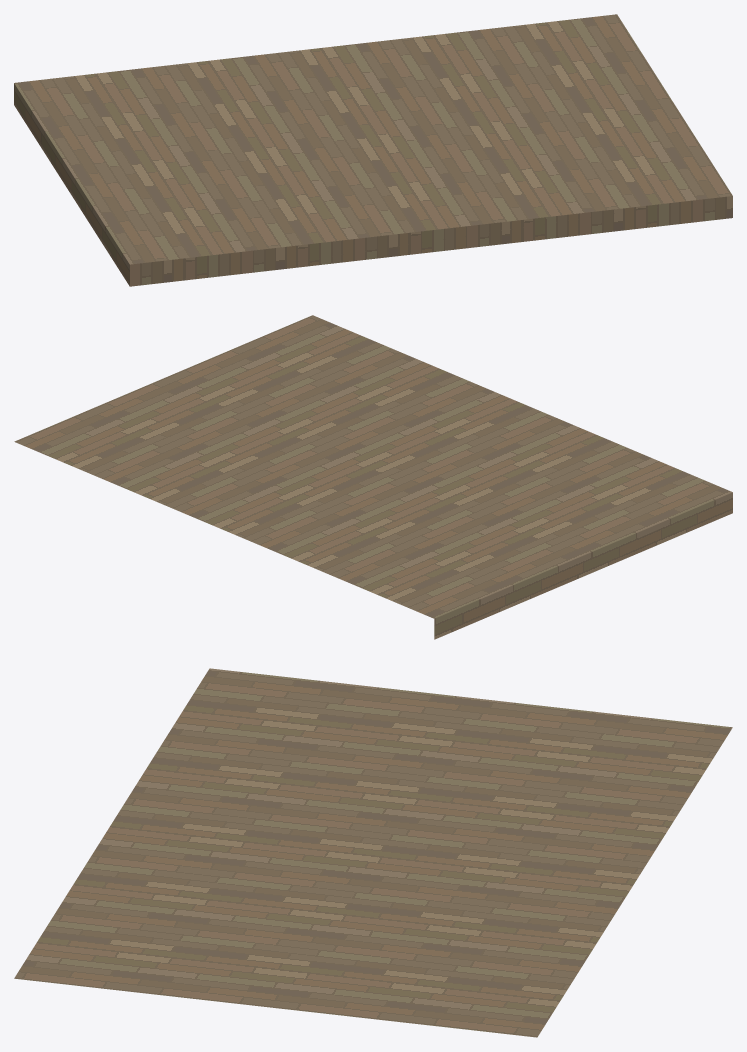
Rendered from kd_stage_1364a3_4_25.glb.
3 renders of one model, top to bottom at view 1: azimuth 30°, elevation 25°; view 2: azimuth 150°, elevation 25°; view 3: azimuth 270°, elevation 25°, orthographic. The views are drawn at different scales.
Visible parts, largest first — view 1: kd_stage_1364a3_4_25; view 2: kd_stage_1364a3_4_25; view 3: kd_stage_1364a3_4_25.
Part boxes in pixels (x1,y1,x2,y2): kd_stage_1364a3_4_25: (14,14,732,286); kd_stage_1364a3_4_25: (14,315,732,639); kd_stage_1364a3_4_25: (14,668,732,1037).
Bounding box in the file's own units: 54.71 × 1.86 × 45.03.
Materials: 1 (1 with a texture image).
